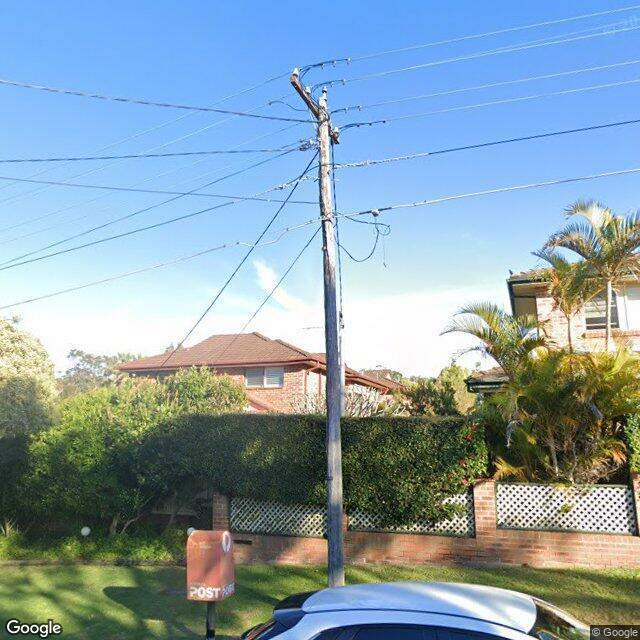crossarm: (289, 75, 339, 146)
timber-pole: (317, 97, 345, 588)
